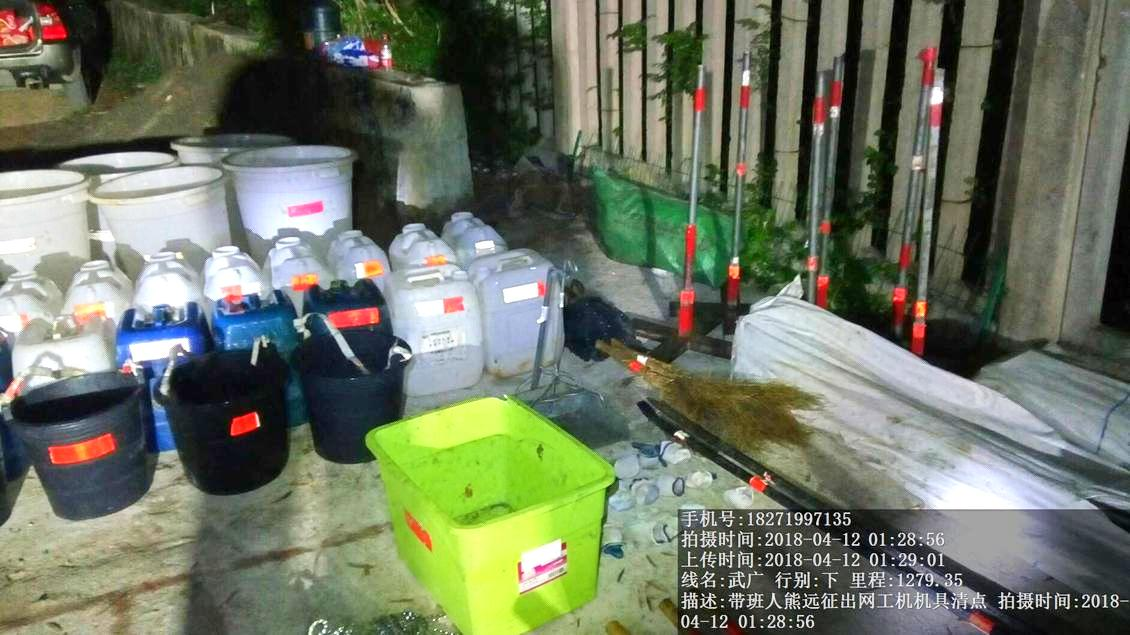SB: (600, 335, 813, 438)
T: (357, 388, 616, 630)
